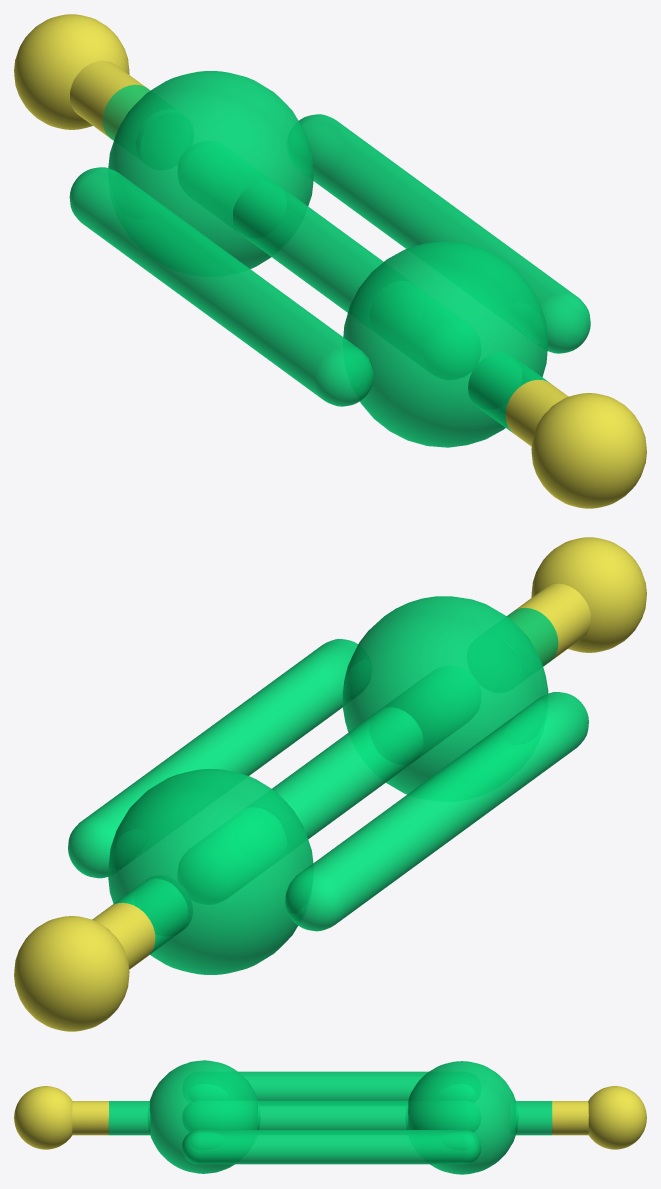
The model's file is alquinos.gltf.
3 renders of one model, top to bottom at view 1: azimuth 30°, elevation 25°; view 2: azimuth 150°, elevation 25°; view 3: azimuth 270°, elevation 25°, orthographic. The views are drawn at different scales.
Visible parts, largest first — view 1: Sphere, Sphere.001, Cylinder.002, Cylinder.003, Cylinder, Sphere.002, Sphere.003, Cylinder.005, Cylinder.006, Cylinder.001, Cylinder.004; view 2: Sphere.001, Sphere, Cylinder.002, Cylinder.003, Cylinder, Sphere.003, Sphere.002, Cylinder.004, Cylinder.001, Cylinder.005, Cylinder.006; view 3: Cylinder, Cylinder.003, Sphere.001, Sphere, Cylinder.002, Sphere.002, Sphere.003, Cylinder.001, Cylinder.005, Cylinder.004, Cylinder.006.
Boxes of the visible parts, left/top/right/bottom form: Sphere: left=343, top=241, right=548, bottom=447; Sphere.001: left=108, top=71, right=313, bottom=268; Cylinder.002: left=69, top=167, right=373, bottom=406; Cylinder.003: left=177, top=141, right=480, bottom=379; Cylinder: left=287, top=114, right=590, bottom=353; Sphere.002: left=531, top=393, right=646, bottom=508; Sphere.003: left=14, top=14, right=129, bottom=129; Cylinder.005: left=102, top=84, right=193, bottom=169; Cylinder.006: left=70, top=60, right=149, bottom=139; Cylinder.001: left=468, top=352, right=549, bottom=432; Cylinder.004: left=505, top=379, right=568, bottom=446; Sphere.001: left=108, top=769, right=313, bottom=974; Sphere: left=342, top=596, right=548, bottom=794; Cylinder.002: left=285, top=692, right=588, bottom=931; Cylinder.003: left=177, top=666, right=480, bottom=904; Cylinder: left=68, top=639, right=371, bottom=878; Sphere.003: left=14, top=916, right=129, bottom=1031; Sphere.002: left=531, top=537, right=646, bottom=652; Cylinder.004: left=508, top=583, right=590, bottom=664; Cylinder.001: left=467, top=608, right=558, bottom=691; Cylinder.005: left=110, top=875, right=192, bottom=954; Cylinder.006: left=92, top=903, right=155, bottom=969; Cylinder: left=182, top=1130, right=481, bottom=1164; Cylinder.003: left=182, top=1100, right=480, bottom=1131; Sphere.001: left=405, top=1061, right=518, bottom=1174; Sphere: left=147, top=1060, right=260, bottom=1173; Cylinder.002: left=189, top=1071, right=474, bottom=1101; Sphere.002: left=14, top=1086, right=72, bottom=1149; Sphere.003: left=588, top=1086, right=646, bottom=1149; Cylinder.001: left=108, top=1101, right=150, bottom=1135; Cylinder.005: left=511, top=1101, right=552, bottom=1135; Cylinder.004: left=72, top=1101, right=108, bottom=1135; Cylinder.006: left=552, top=1101, right=588, bottom=1135.
Bounding box in the file's own units: 0.000418 × 0.000278 × 0.00154.
